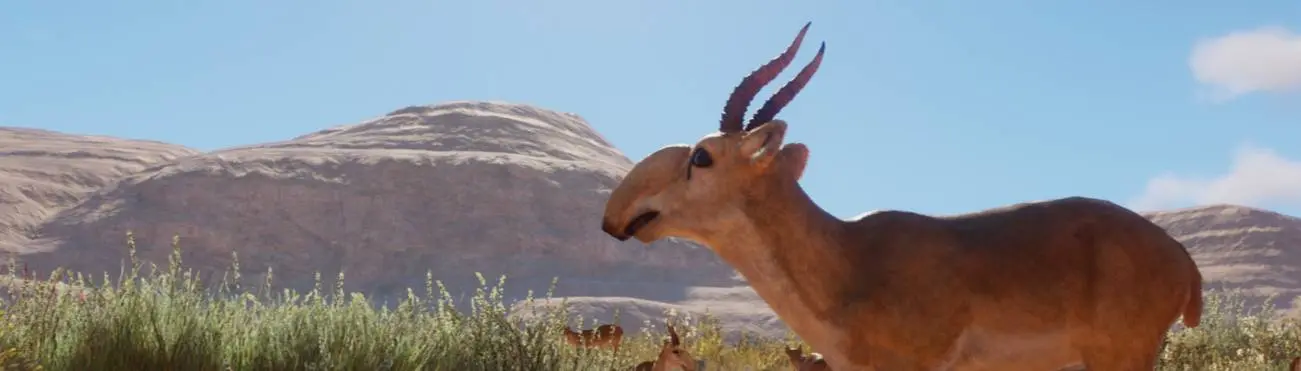saiga: (600, 18, 1203, 368)
